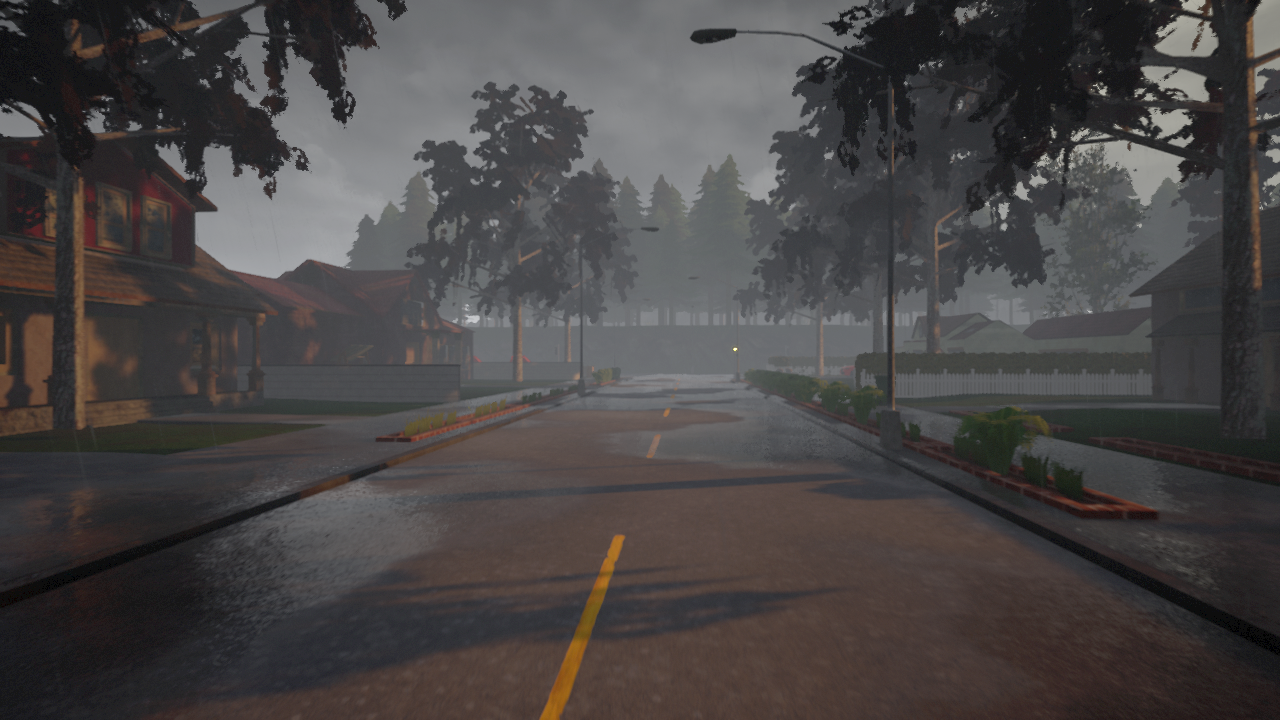yellow: (732, 342, 738, 358)
